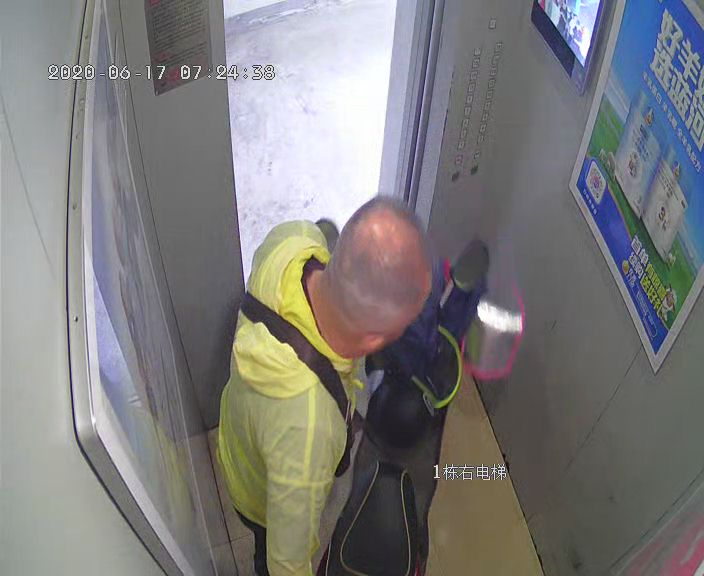Electric-bicycle: (316, 209, 496, 576)
